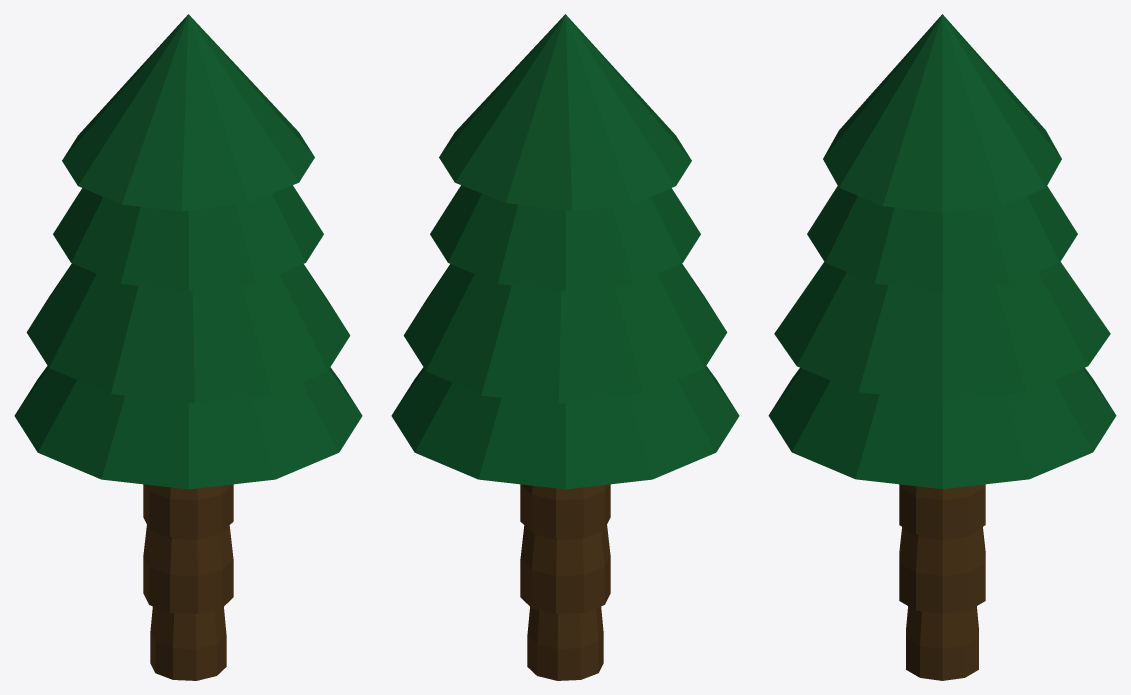
File: tree.fbx
The picture shows the model from 3 angles, left to right: view 1: azimuth 30°, elevation 25°; view 2: azimuth 150°, elevation 25°; view 3: azimuth 270°, elevation 25°; orthographic projection.
Parts seen in each view (by area): view 1: tree; view 2: tree; view 3: tree.
Part boxes in pixels (<box>): tree: <box>14,14,362,680</box>; tree: <box>391,14,739,680</box>; tree: <box>768,14,1116,680</box>.
Bounding box in the file's own units: 0.0218 × 0.045 × 0.0218.
